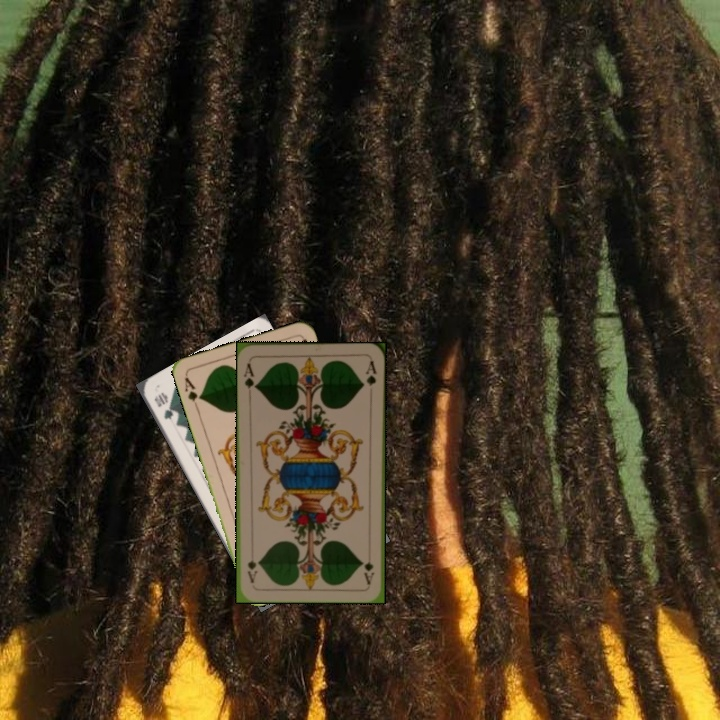G10: (150, 388, 176, 422)
GA: (180, 373, 205, 412), (360, 546, 377, 587), (240, 359, 260, 391)
